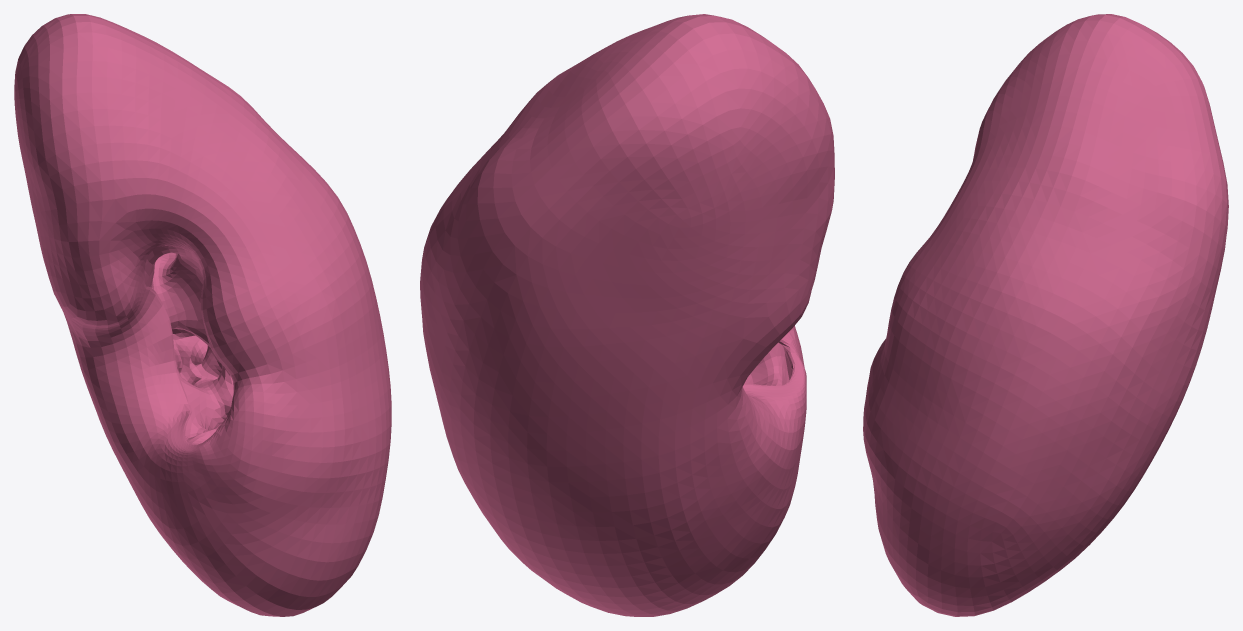
File: female_with_og_tbs.glb
3 renders of one model, left to right at view 1: azimuth 30°, elevation 25°; view 2: azimuth 150°, elevation 25°; view 3: azimuth 270°, elevation 25°, orthographic. The views are drawn at different scales.
Parts seen in each view (by area): view 1: world; view 2: world; view 3: world.
Boxes of the visible parts, x1,y1,x2,y2 form: world: [14, 14, 391, 616]; world: [420, 14, 834, 616]; world: [863, 14, 1228, 616].
Bounding box in the file's own units: 0.0731 × 0.1249 × 0.0776.
